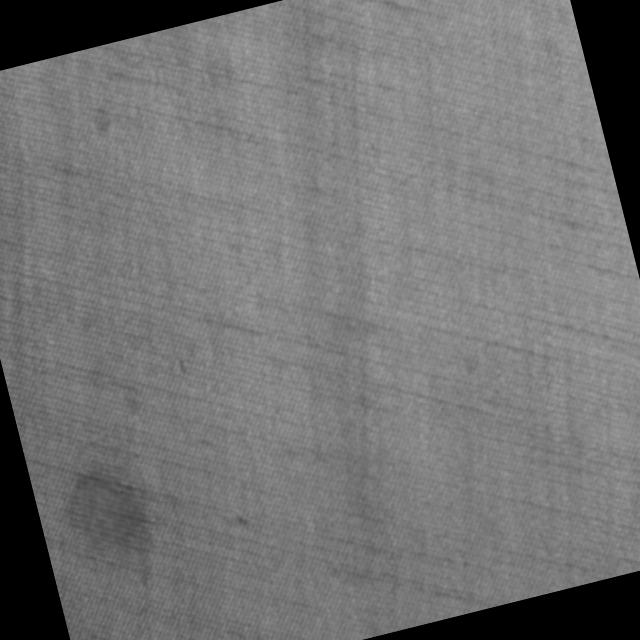oil spot: (50, 452, 170, 606)
